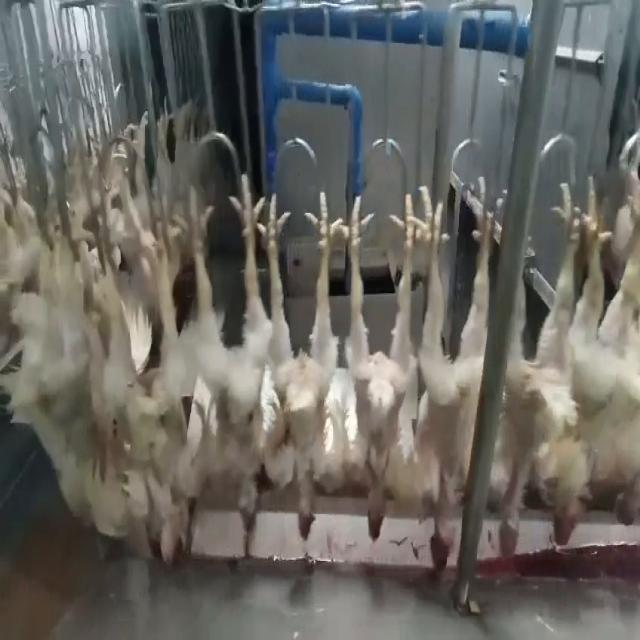chicken: (419, 162, 503, 578), (500, 179, 590, 565), (336, 166, 423, 545), (259, 185, 343, 546), (181, 178, 260, 558), (105, 192, 174, 564), (584, 175, 639, 545)
